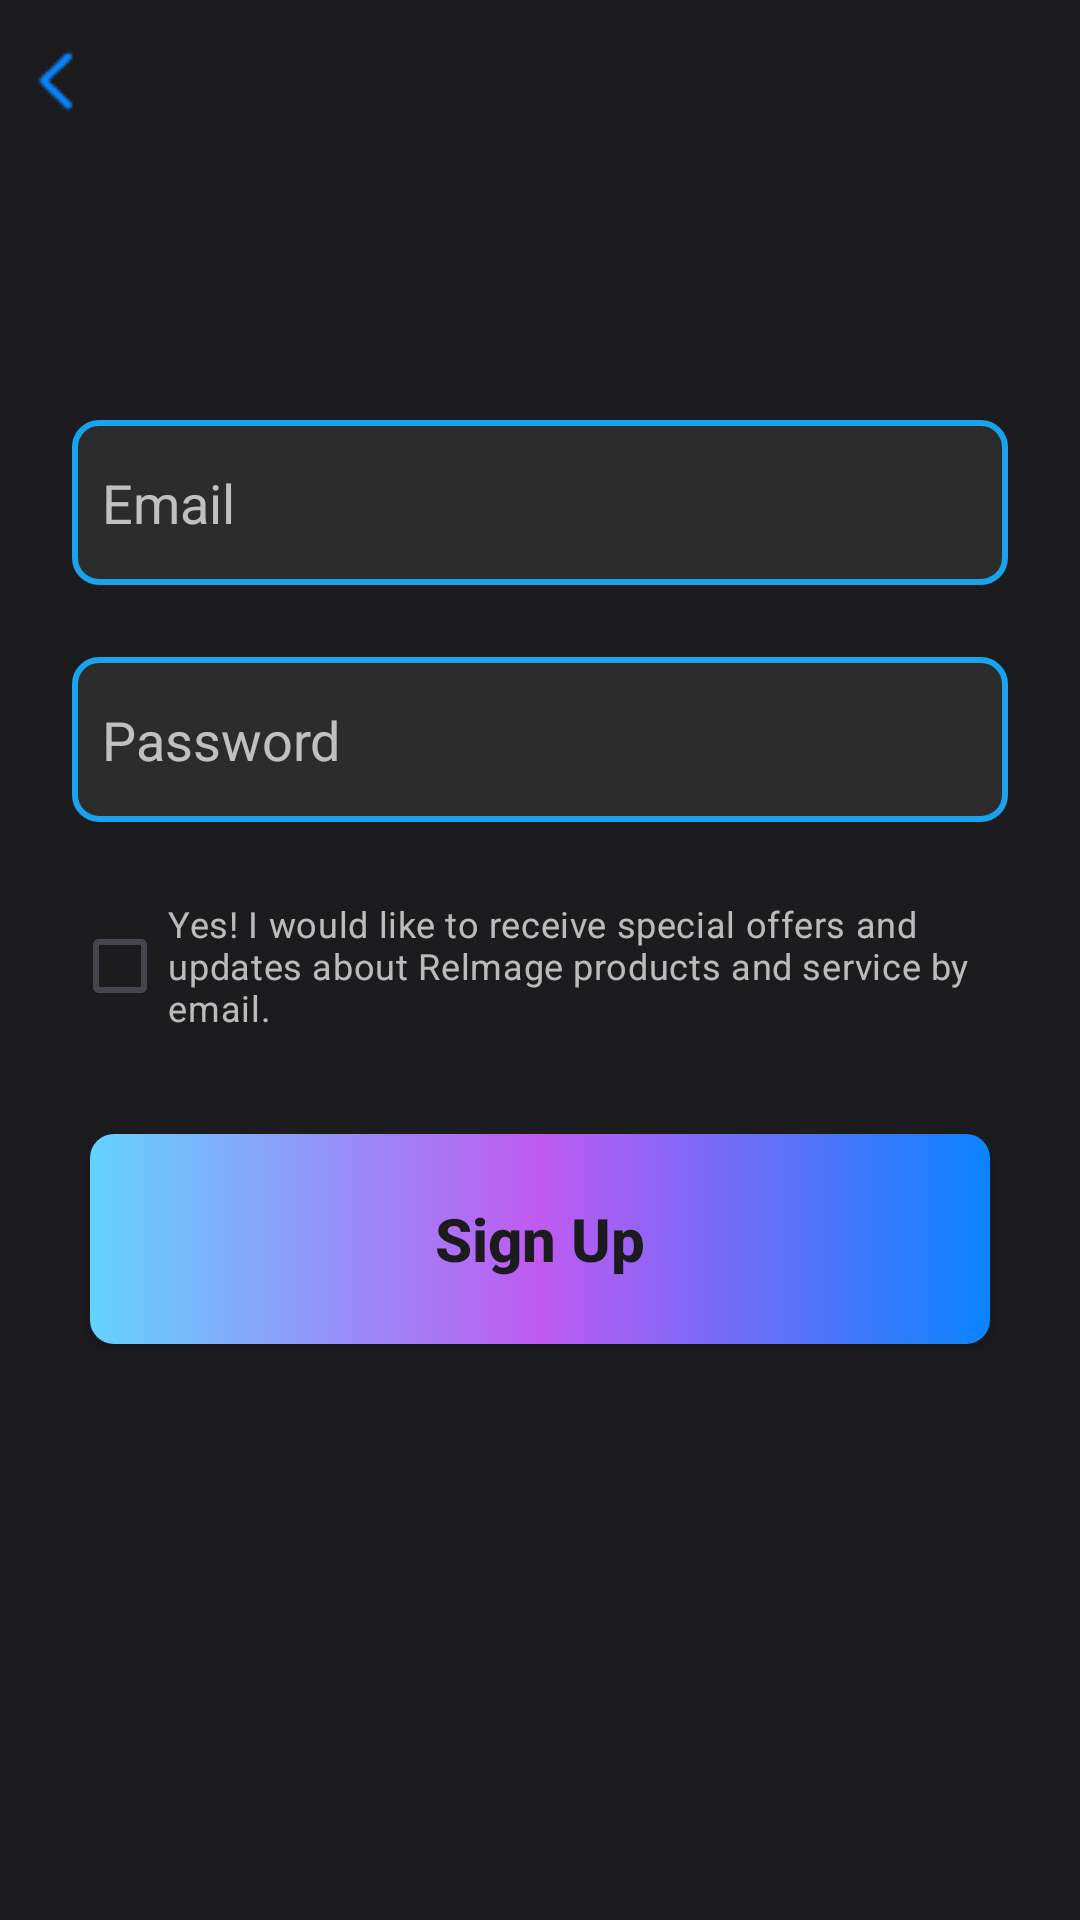

Where icons sit on this 1080w x 1920h app screen, as (x1, y1, x2, y2):
back: (38, 51, 73, 111)
